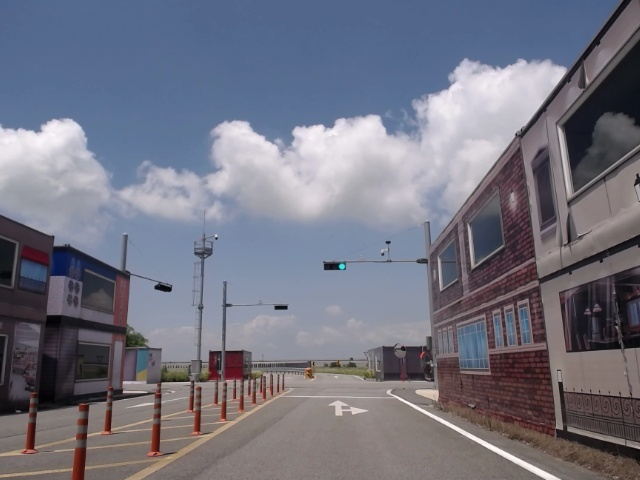green_3: (324, 263, 345, 270)
